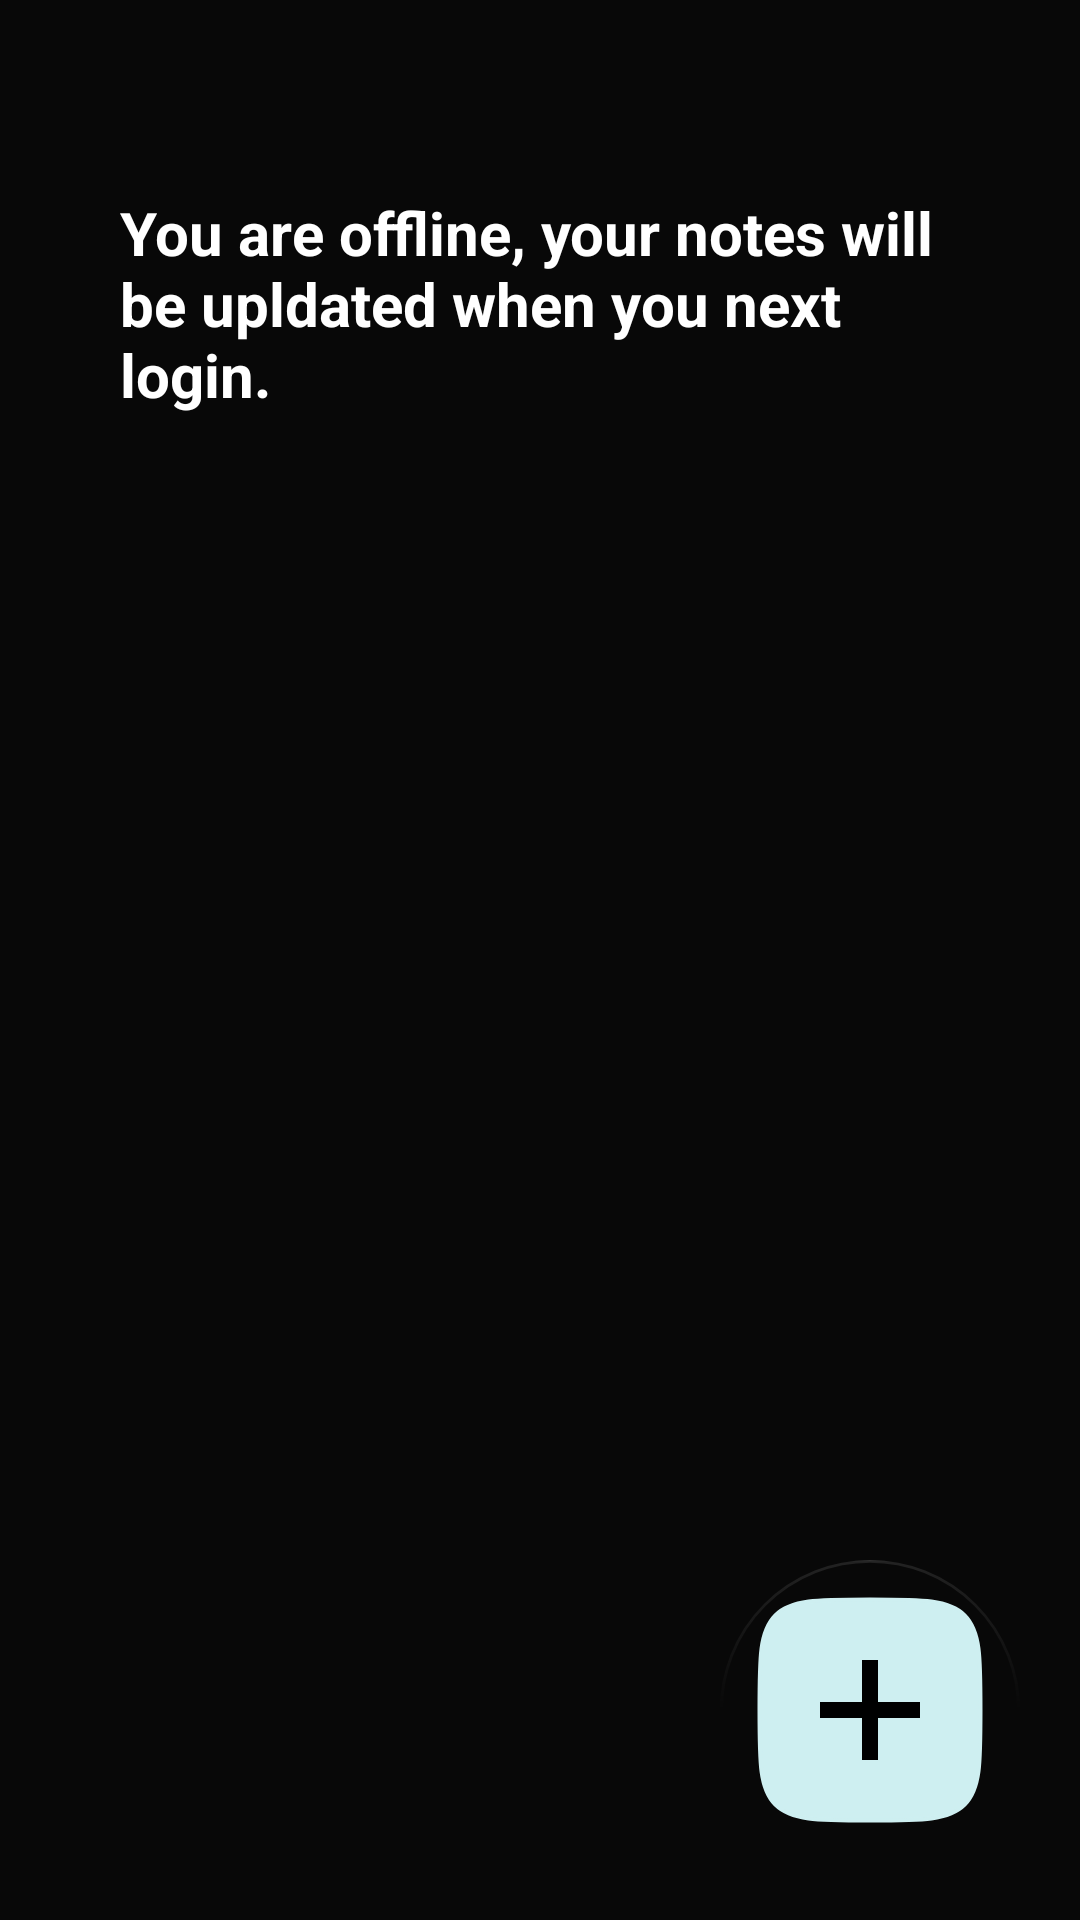

Point at icon controls on the screen. Image size 1080*1920, points as point (x, y).
add: point (870, 1691)
